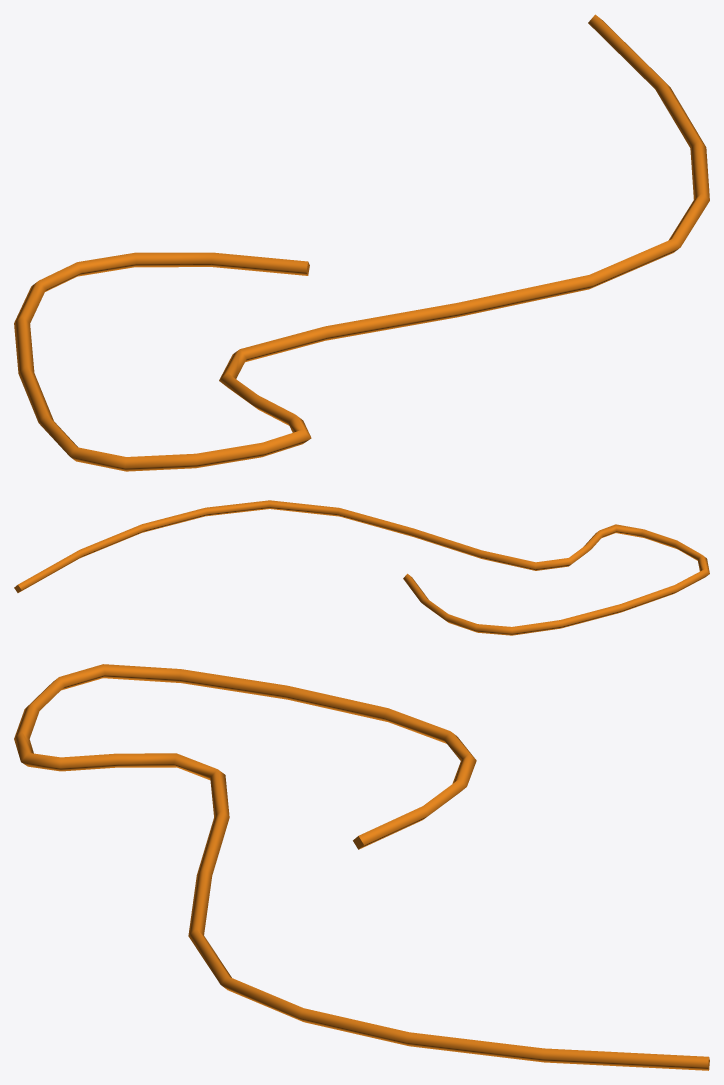
File: cable floor 1.FBX
The picture shows the model from 3 angles, top to bottom: view 1: azimuth 30°, elevation 25°; view 2: azimuth 150°, elevation 25°; view 3: azimuth 270°, elevation 25°; orthographic projection. The views are drawn at different scales.
Parts seen in each view (by area): view 1: Line031; view 2: Line031; view 3: Line031.
Boxes of the visible parts, x1,y1,x2,y2 form: Line031: [14, 14, 709, 471]; Line031: [14, 500, 709, 635]; Line031: [14, 664, 709, 1070].
Bounding box in the file's own units: 1.22 × 0.02 × 0.8958.
